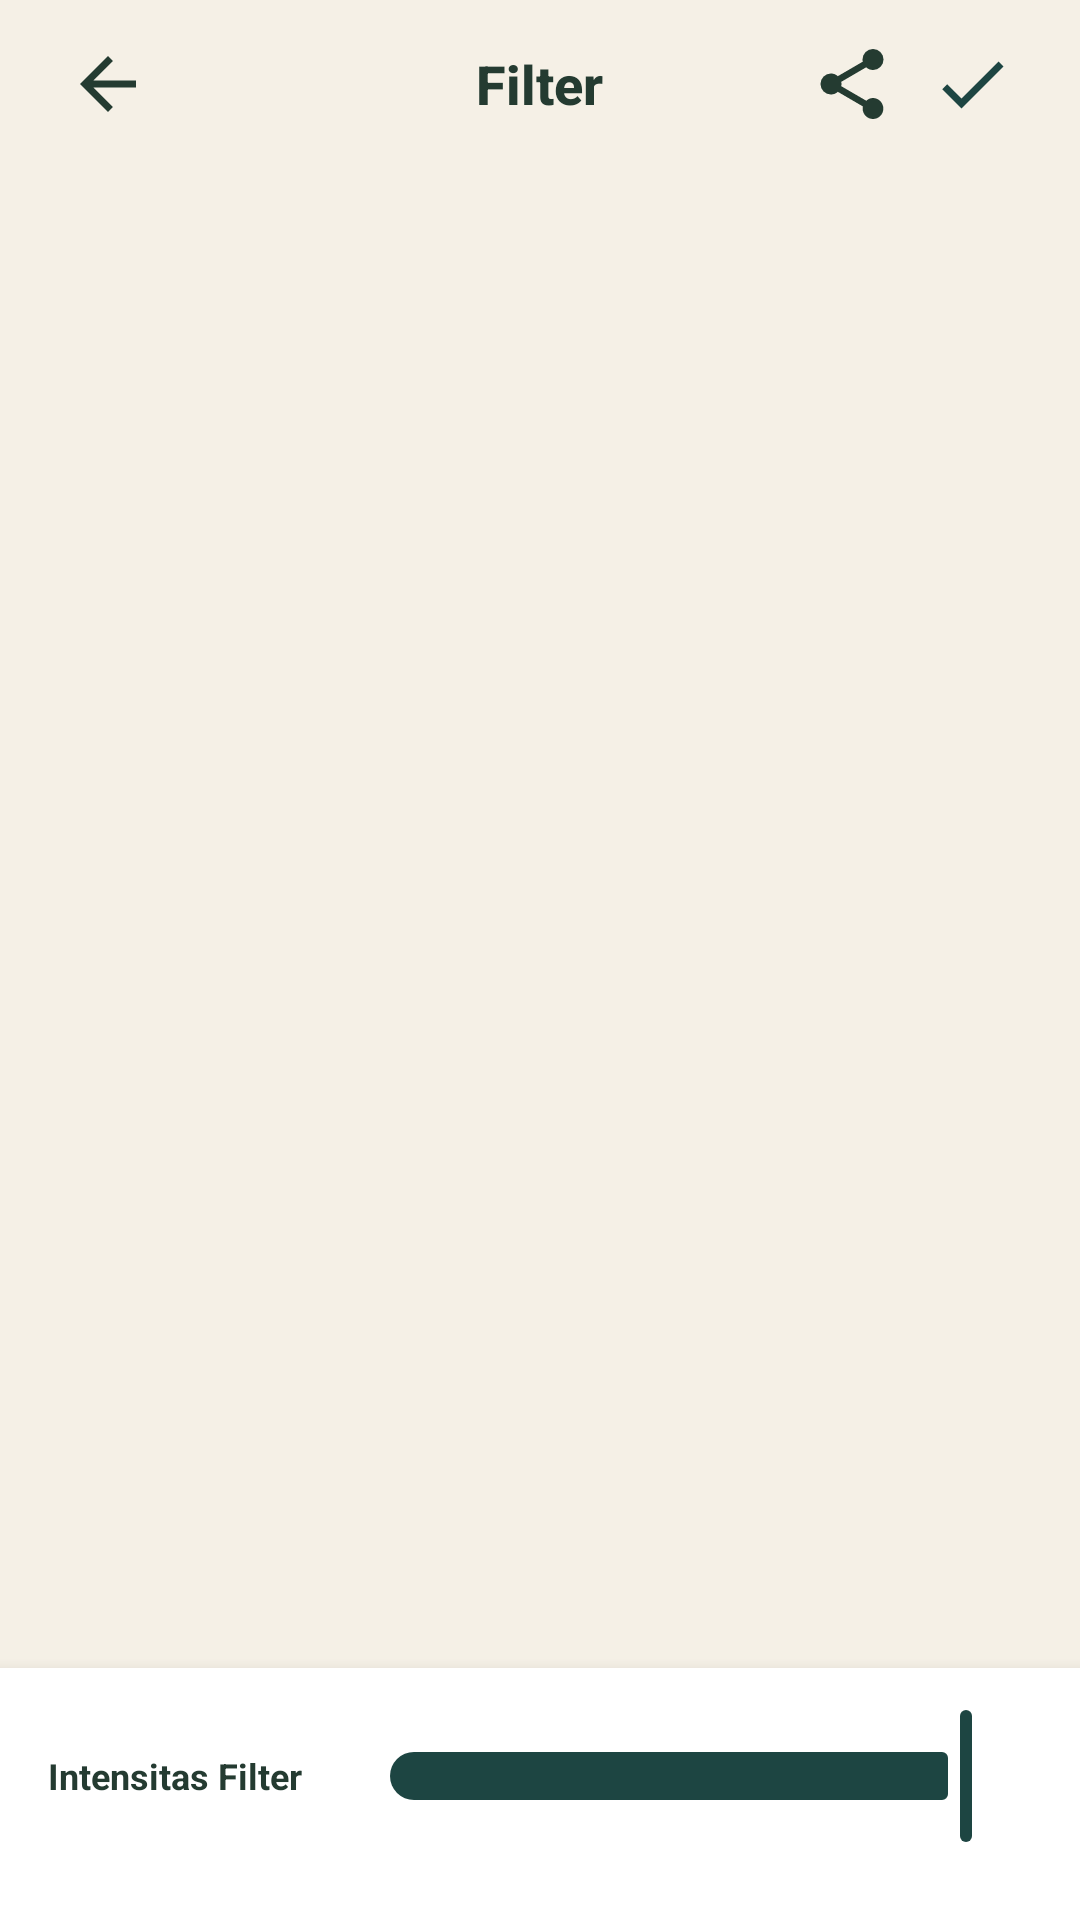

Screen size 1080 x 1920. Icon name, then its center in pixels as [x,y]:
Bagikan: [852,84]
Kembali: [108,84]
Simpan: [973,85]
